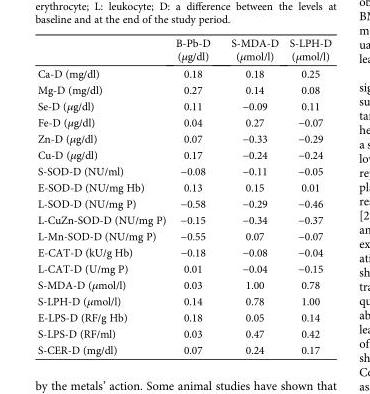table: (36, 36, 331, 355)
table column: (36, 36, 170, 355), (220, 36, 283, 355), (170, 36, 220, 355), (283, 36, 331, 355)
table column header: (36, 36, 331, 64)
table row: (36, 36, 331, 64), (36, 64, 331, 81), (36, 97, 331, 114), (36, 146, 331, 163), (36, 194, 331, 211), (36, 211, 331, 228), (36, 260, 331, 277), (36, 292, 331, 309), (36, 81, 331, 97), (36, 114, 331, 130), (36, 130, 331, 146), (36, 163, 331, 179), (36, 228, 331, 244), (36, 244, 331, 260), (36, 309, 331, 325), (36, 325, 331, 341), (36, 179, 331, 194), (36, 277, 331, 292), (36, 341, 331, 355)
